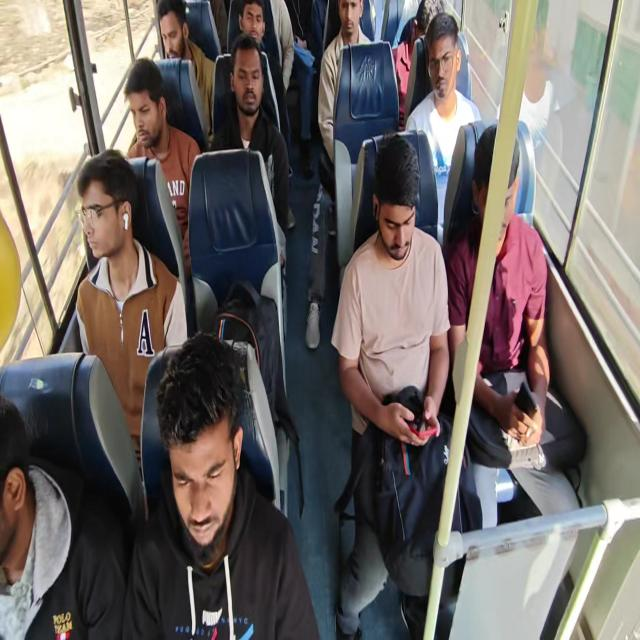person: (0, 328, 111, 640), (148, 347, 249, 624), (68, 144, 168, 352), (365, 171, 452, 300), (127, 59, 172, 202), (422, 0, 485, 92), (222, 46, 270, 162), (468, 136, 522, 231), (144, 0, 196, 61), (340, 0, 381, 59), (233, 5, 276, 50), (410, 5, 448, 46)
